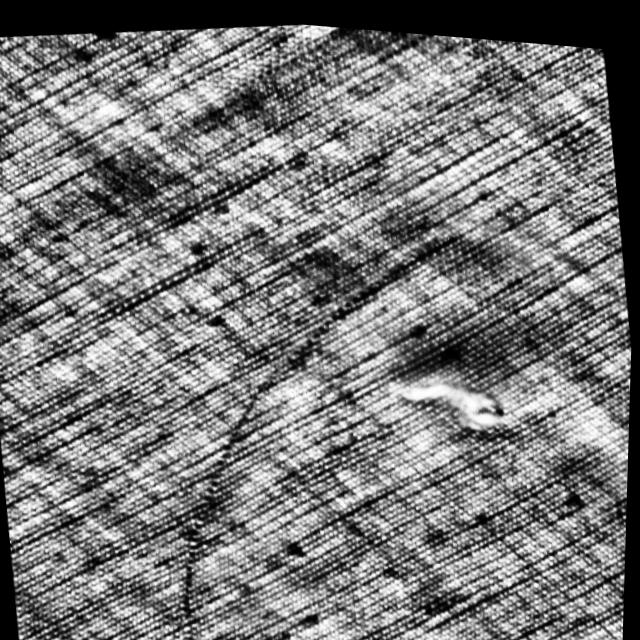Stitch: (138, 200, 517, 640), (399, 358, 514, 436)
